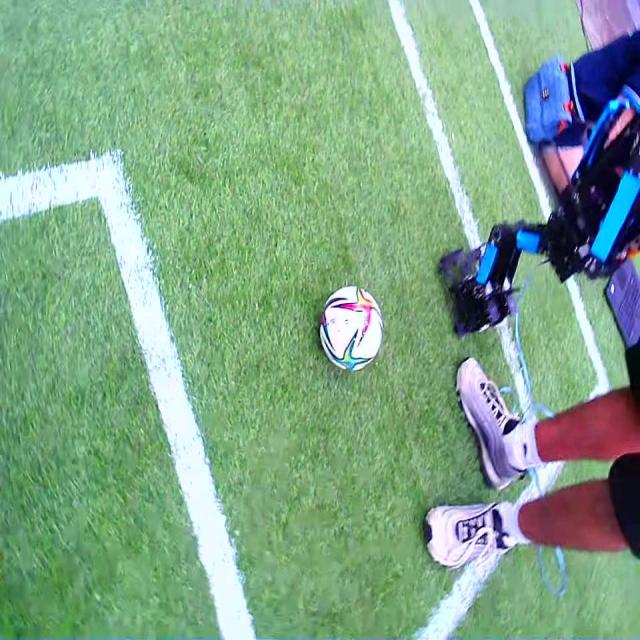ball: (319, 286, 382, 372)
